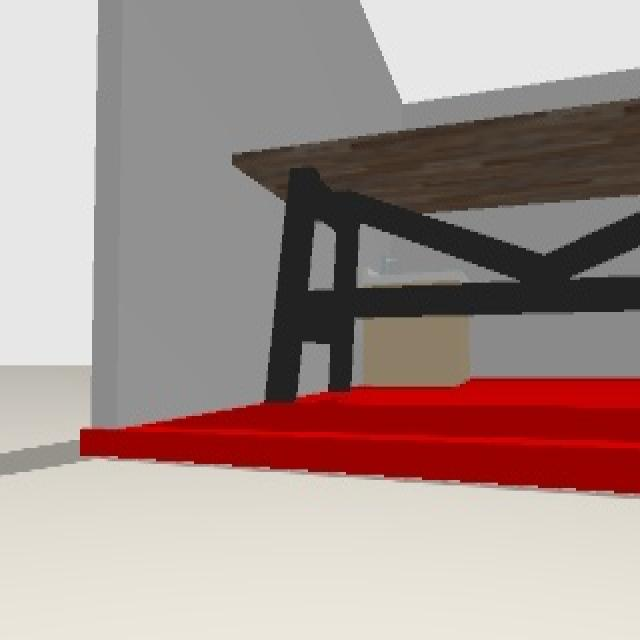dining: (230, 95, 640, 405)
